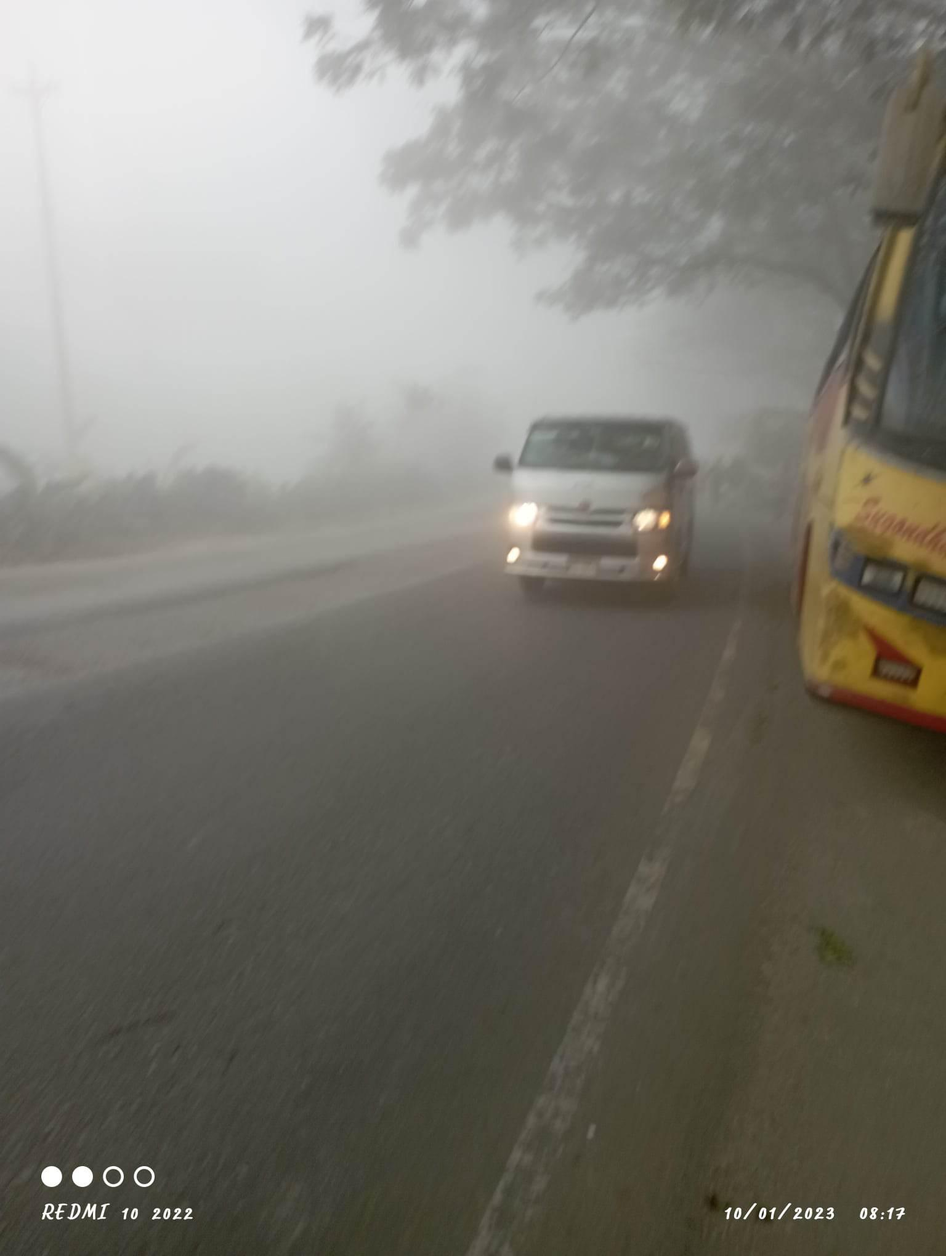Car: (467, 379, 728, 613)
